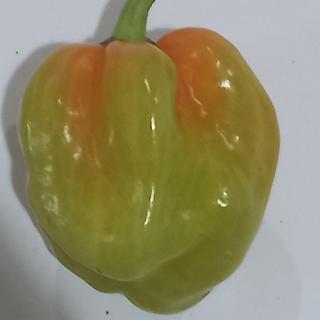Grade-A: (11, 23, 284, 315)
